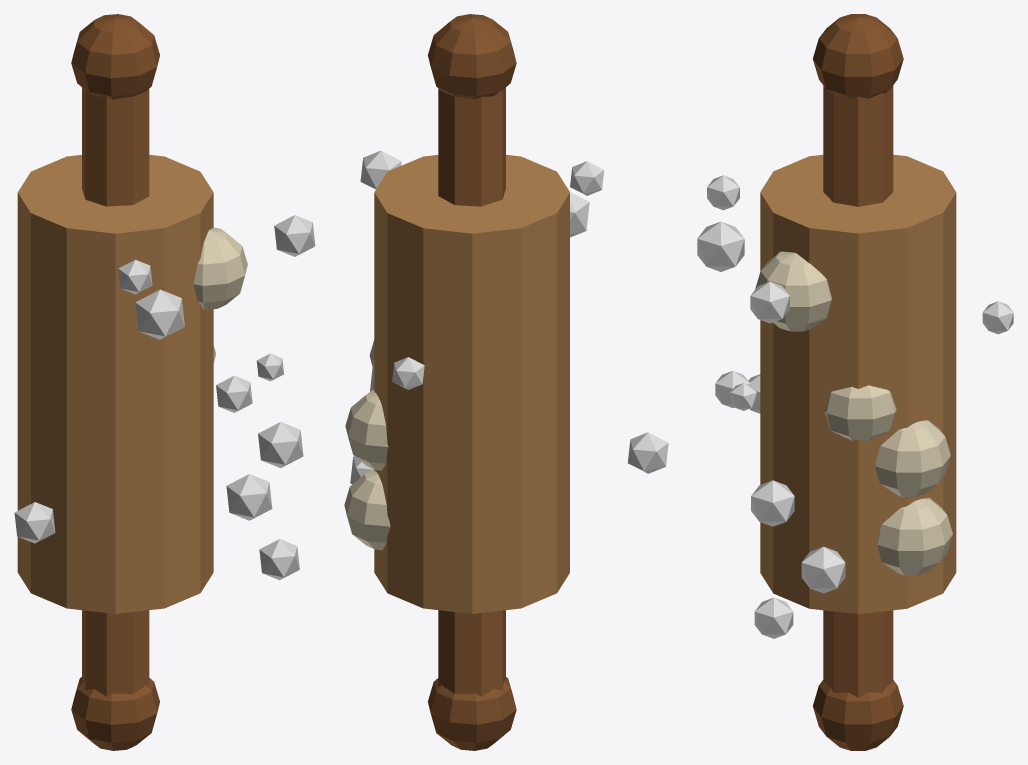
Rendered from RollingPin.fbx.
3 views of the same model, side by side, from view 1: azimuth 30°, elevation 25°; view 2: azimuth 150°, elevation 25°; view 3: azimuth 270°, elevation 25° (orthographic).
Parts seen in each view (by area): view 1: RollingPin; view 2: RollingPin; view 3: RollingPin.
Part boxes in pixels (left/top/right/bottom): RollingPin: left=14, top=14, right=315, bottom=750; RollingPin: left=344, top=14, right=668, bottom=750; RollingPin: left=697, top=14, right=1013, bottom=750.
Bounding box in the file's own units: 0.4942 × 1.15 × 0.4522.
